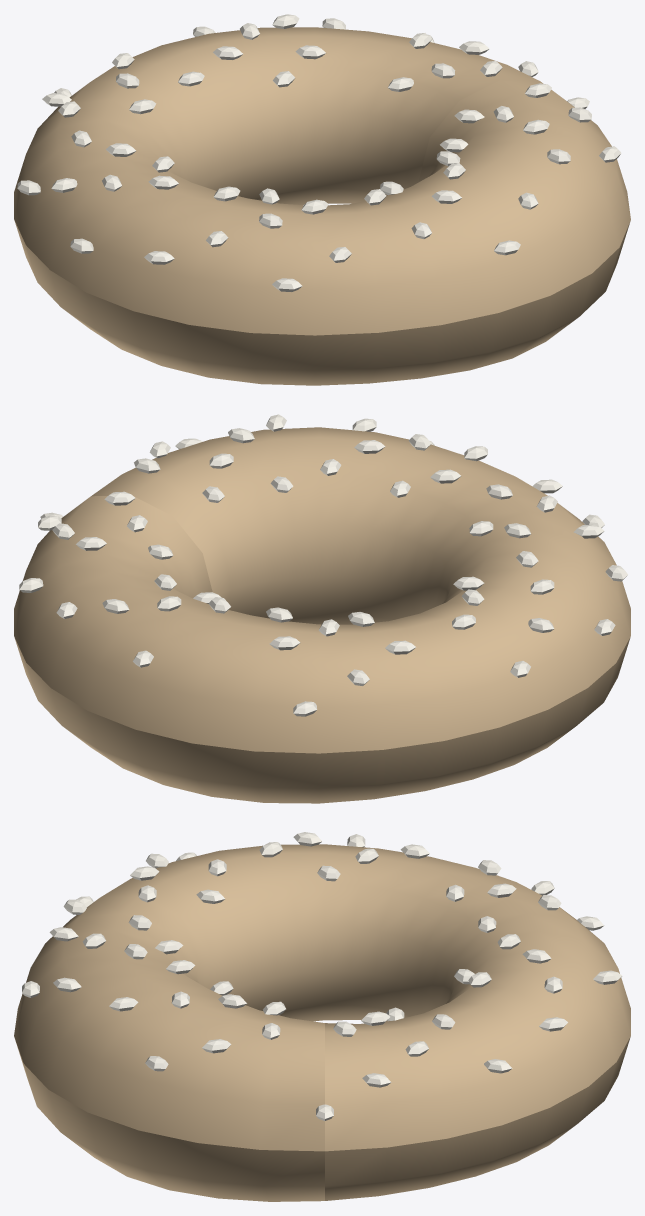
The model's file is fresh-produce-and-groceries-bagel-28f244e7__24418.glb.
3 views of the same model, one above another, from view 1: azimuth 30°, elevation 25°; view 2: azimuth 150°, elevation 25°; view 3: azimuth 270°, elevation 25° (orthographic).
Visible parts, largest first — view 1: bagel; view 2: bagel; view 3: bagel.
Boxes of the visible parts, bbox=[...] form: bagel: bbox=[14, 14, 630, 385]; bagel: bbox=[14, 414, 630, 803]; bagel: bbox=[14, 832, 630, 1201].
Size of the model in its own units: 0.1084 by 0.0369 by 0.1073.
